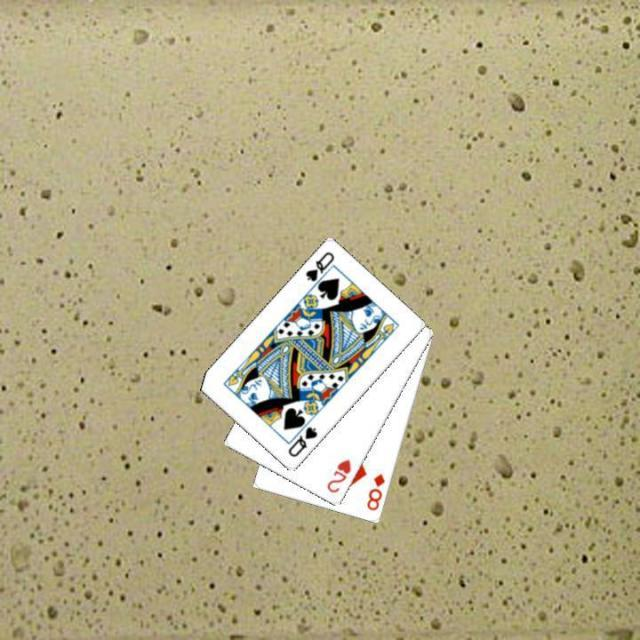2H: (323, 455, 353, 495)
8D: (362, 470, 387, 512)
QS: (284, 423, 320, 460), (301, 248, 336, 284)
